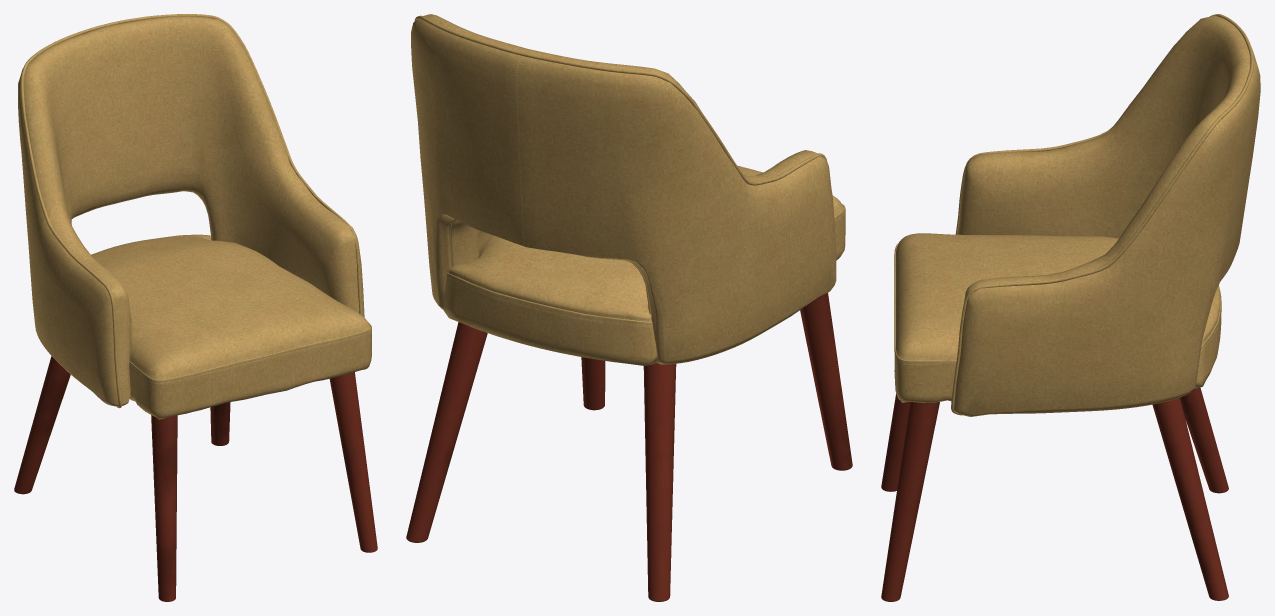
The model's file is B075YMY27C.glb.
The picture shows the model from 3 angles, left to right: view 1: azimuth 30°, elevation 25°; view 2: azimuth 150°, elevation 25°; view 3: azimuth 270°, elevation 25°; orthographic projection. The views are drawn at different scales.
Parts seen in each view (by area): view 1: RootNode; view 2: RootNode; view 3: RootNode.
Boxes of the visible parts, x1,y1,x2,y2 form: RootNode: (14, 14, 377, 601); RootNode: (406, 14, 852, 601); RootNode: (881, 14, 1260, 601).
Size of the model in its own units: 0.5477 by 0.8492 by 0.6046.
1 material, 1 textured.
